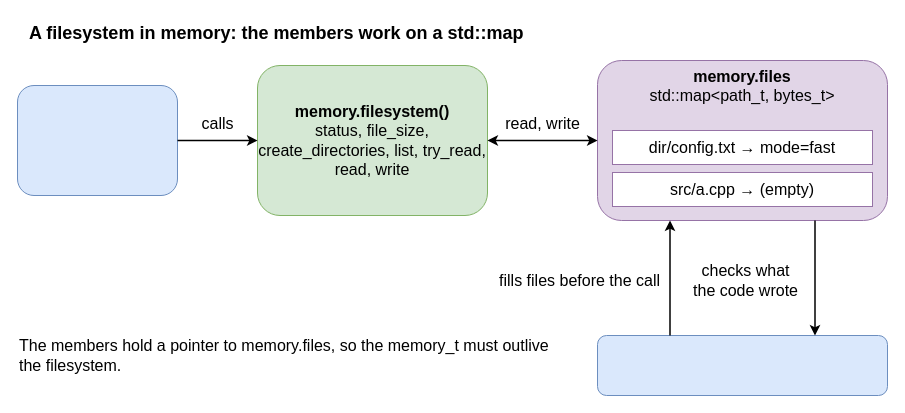
Image size: 905x413. Some labels were removed from this diagram. The centre of each missing label's shape, as x and y in pixels:
code under test save_config, load_config, has_config: (97,140)
the test: (742,365)
